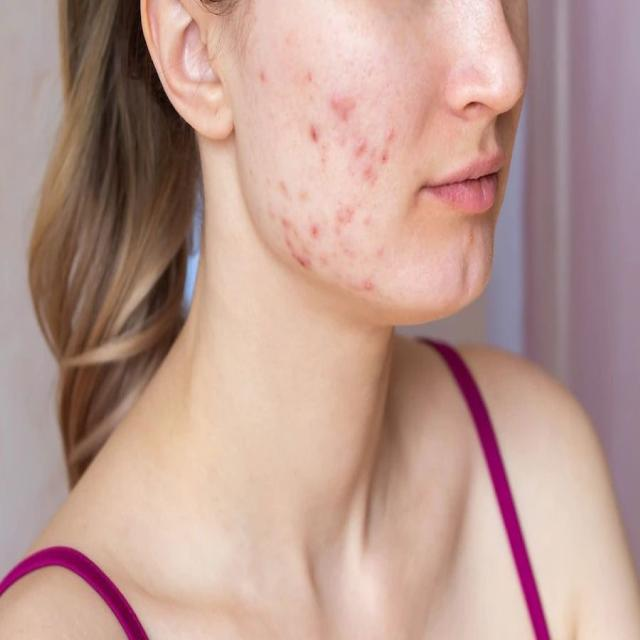Acne: (239, 36, 407, 314)
